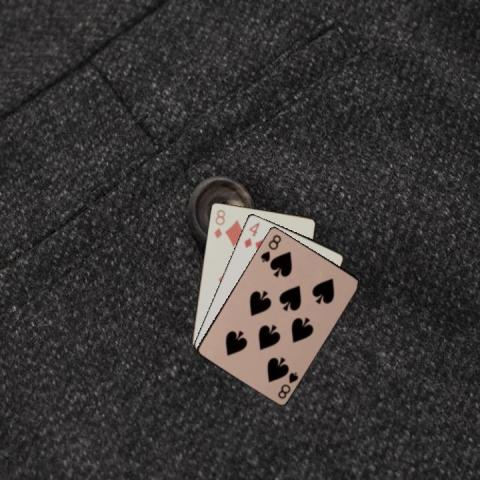4d: (240, 218, 260, 248)
8d: (210, 207, 226, 239)
8s: (257, 232, 283, 264), (275, 369, 299, 400)
